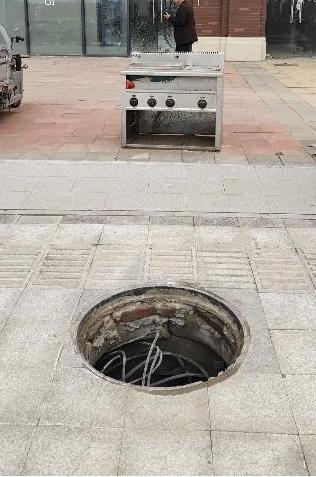wellcover: (71, 284, 257, 394)
